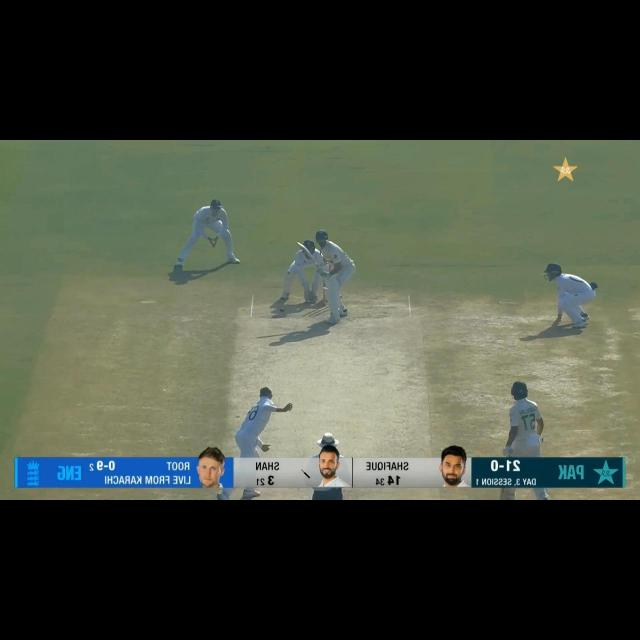bat: (295, 242, 320, 266)
toe: (499, 488, 508, 500), (296, 241, 306, 248)
